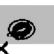correct: (5, 15, 39, 41)
